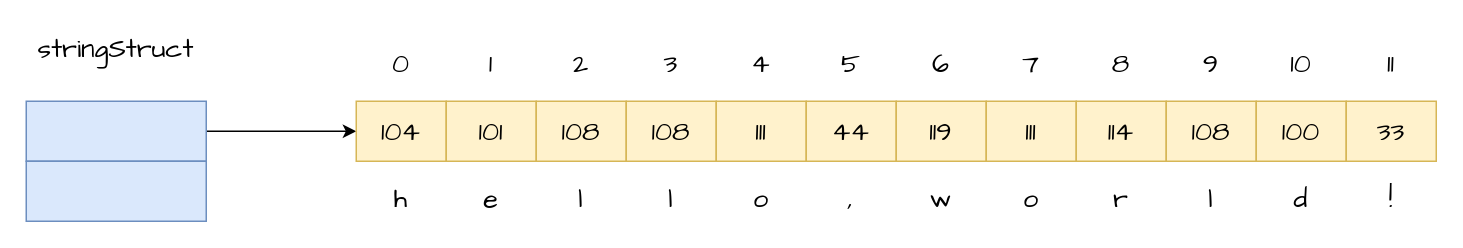
Image size: 1463x248. Some labels were removed from this diagram. Each missing label, with the centre of its shape:
"len = 11" belongs at (x=115, y=190).
"str" belongs at (x=115, y=130).
